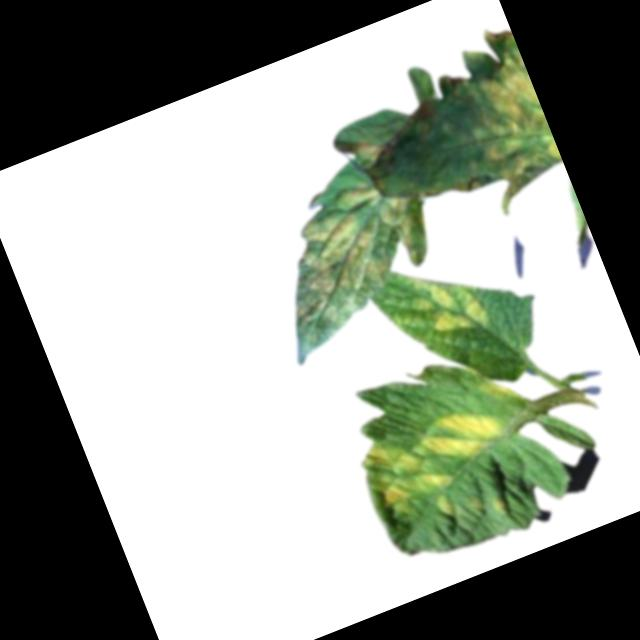Leaf_Mold: (281, 169, 443, 318), (440, 29, 563, 191), (354, 420, 458, 524), (404, 257, 493, 347), (413, 394, 515, 472), (353, 133, 386, 165), (487, 489, 513, 517), (435, 492, 458, 520)
